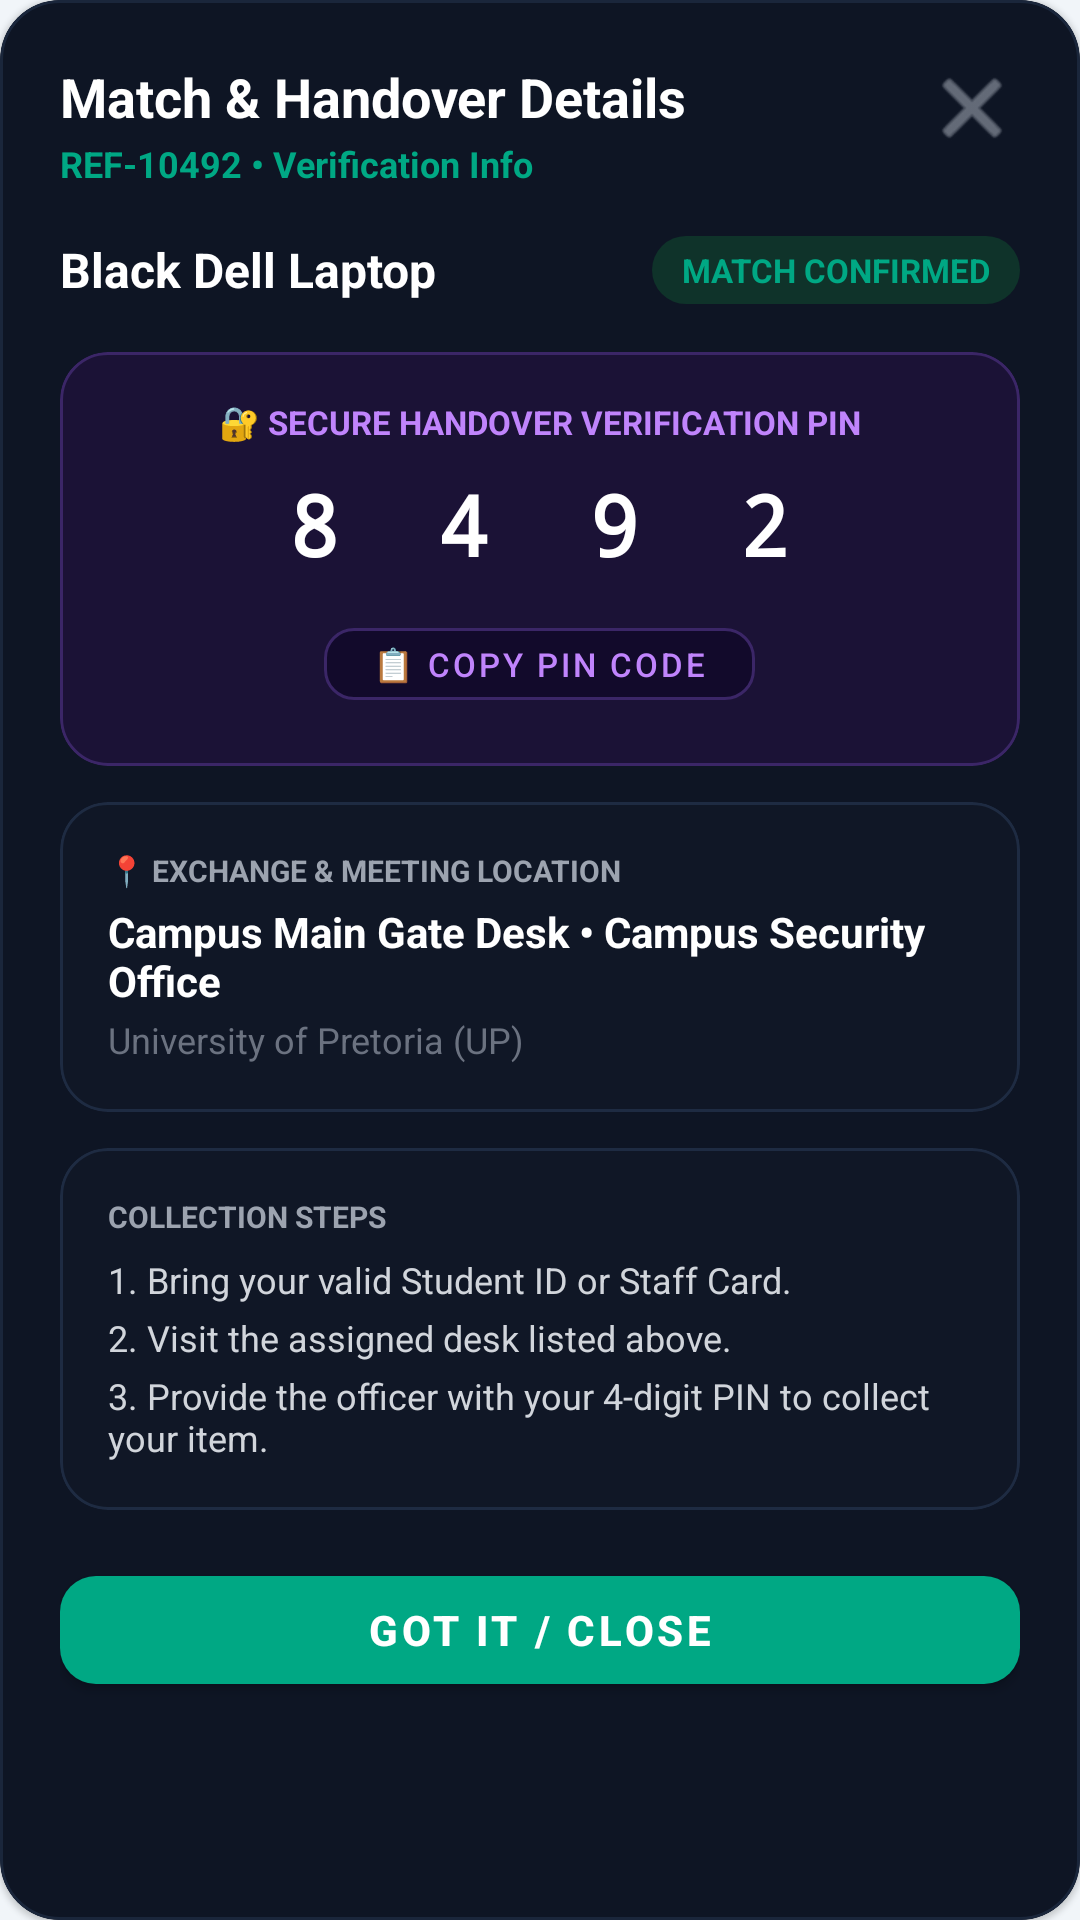

Where icons sit on this 1080w x 1920h app screen, as [x1, y1, x2, y2]:
Close: [942, 78, 1002, 138]
